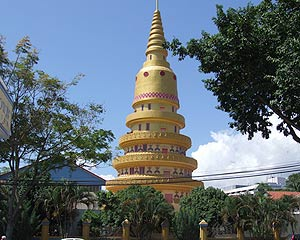Buddhist Temple: (122, 6, 199, 202)
